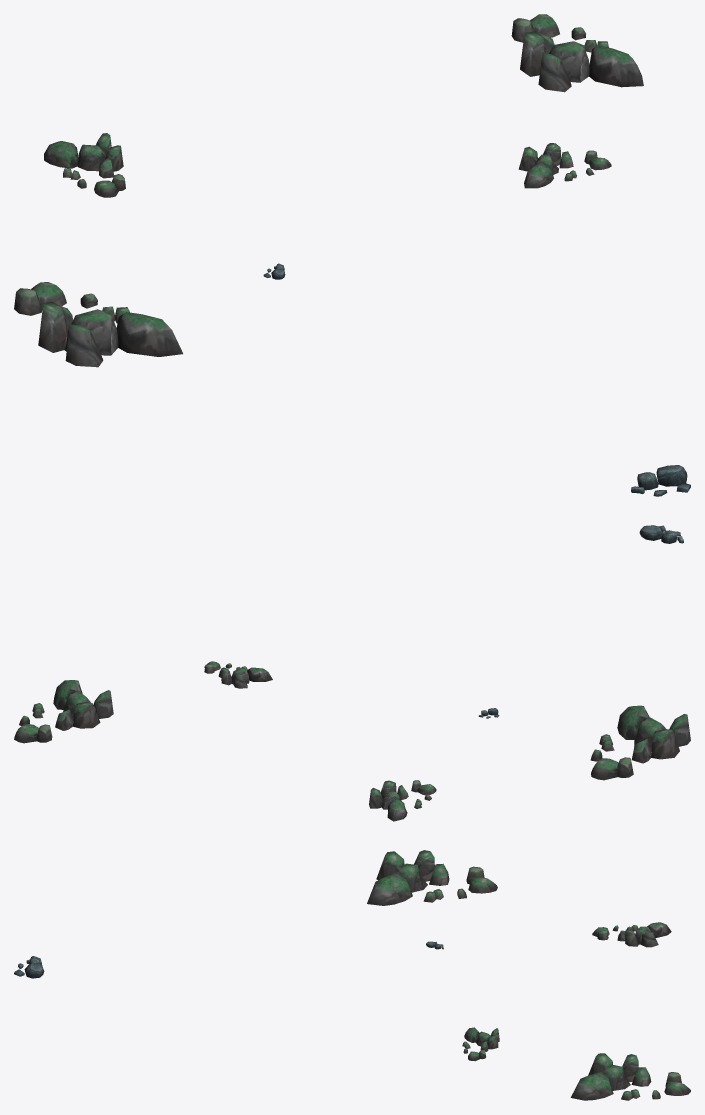
The model's file is Area_09_32.fbx.
3 views of the same model, one above another, from view 1: azimuth 30°, elevation 25°; view 2: azimuth 150°, elevation 25°; view 3: azimuth 270°, elevation 25° (orthographic). The views are drawn at different scales.
Parts seen in each view (by area): view 1: Area_09_32; view 2: Area_09_32; view 3: Area_09_32.
Part boxes in pixels (left/top/right/bottom): Area_09_32: left=14, top=14, right=690, bottom=496; Area_09_32: left=14, top=525, right=690, bottom=821; Area_09_32: left=14, top=850, right=690, bottom=1100.
Size of the model in its own units: 6608 by 318 by 8214.
